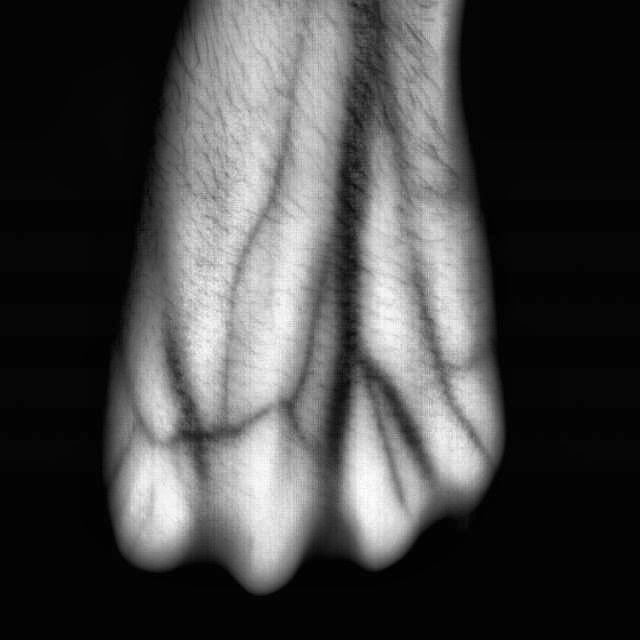Vein: (323, 7, 424, 460)
